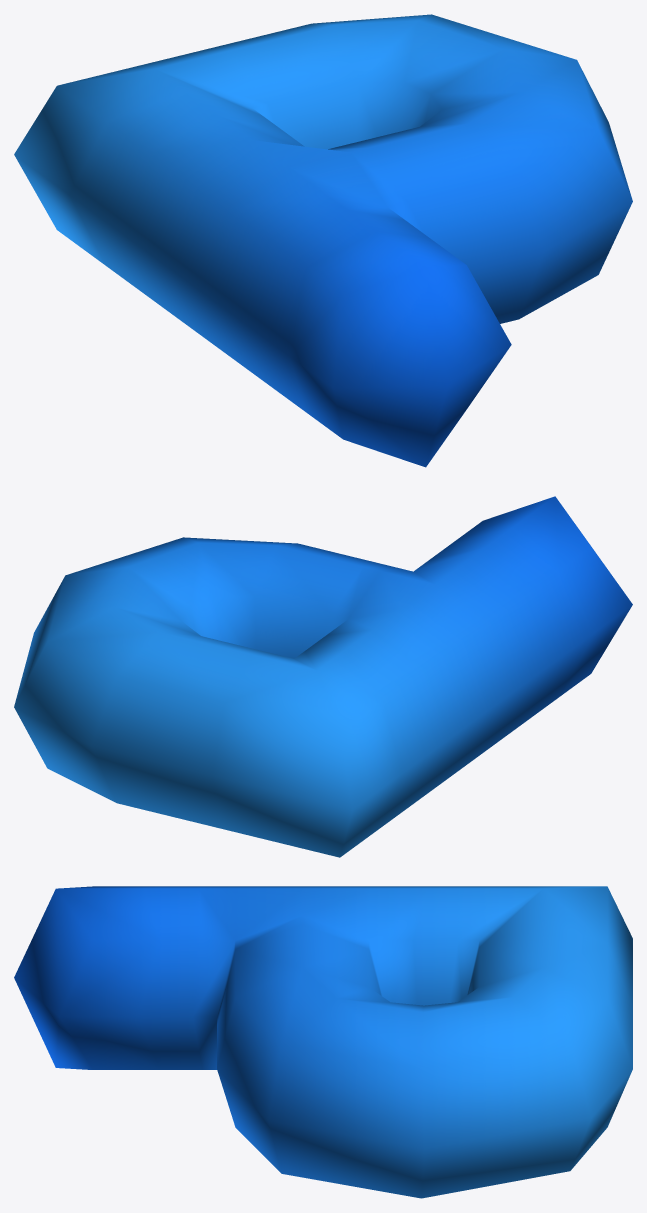
The model's file is CartoonFont_P.FBX.
3 views of the same model, one above another, from view 1: azimuth 30°, elevation 25°; view 2: azimuth 150°, elevation 25°; view 3: azimuth 270°, elevation 25° (orthographic). The views are drawn at different scales.
Visible parts, largest first — view 1: P; view 2: P; view 3: P.
Part boxes in pixels (left/top/right/bottom): P: left=14, top=14, right=632, bottom=467; P: left=14, top=496, right=632, bottom=857; P: left=14, top=886, right=632, bottom=1198.
Size of the model in its own units: 23.84 by 9.49 by 29.7.
1 material, 1 textured.
